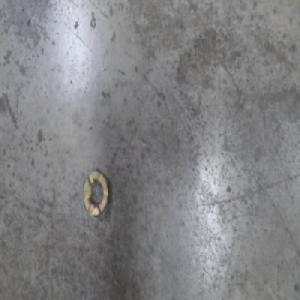Nut: (82, 168, 110, 219)
